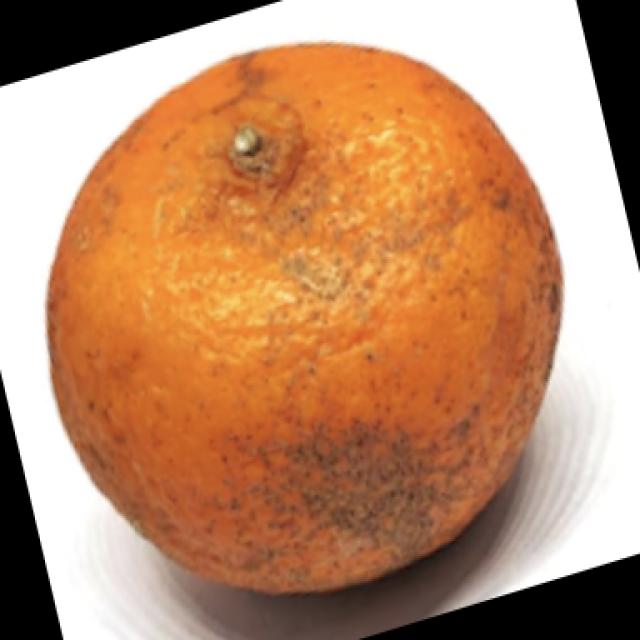sedikit_busuk: (48, 38, 569, 603)
